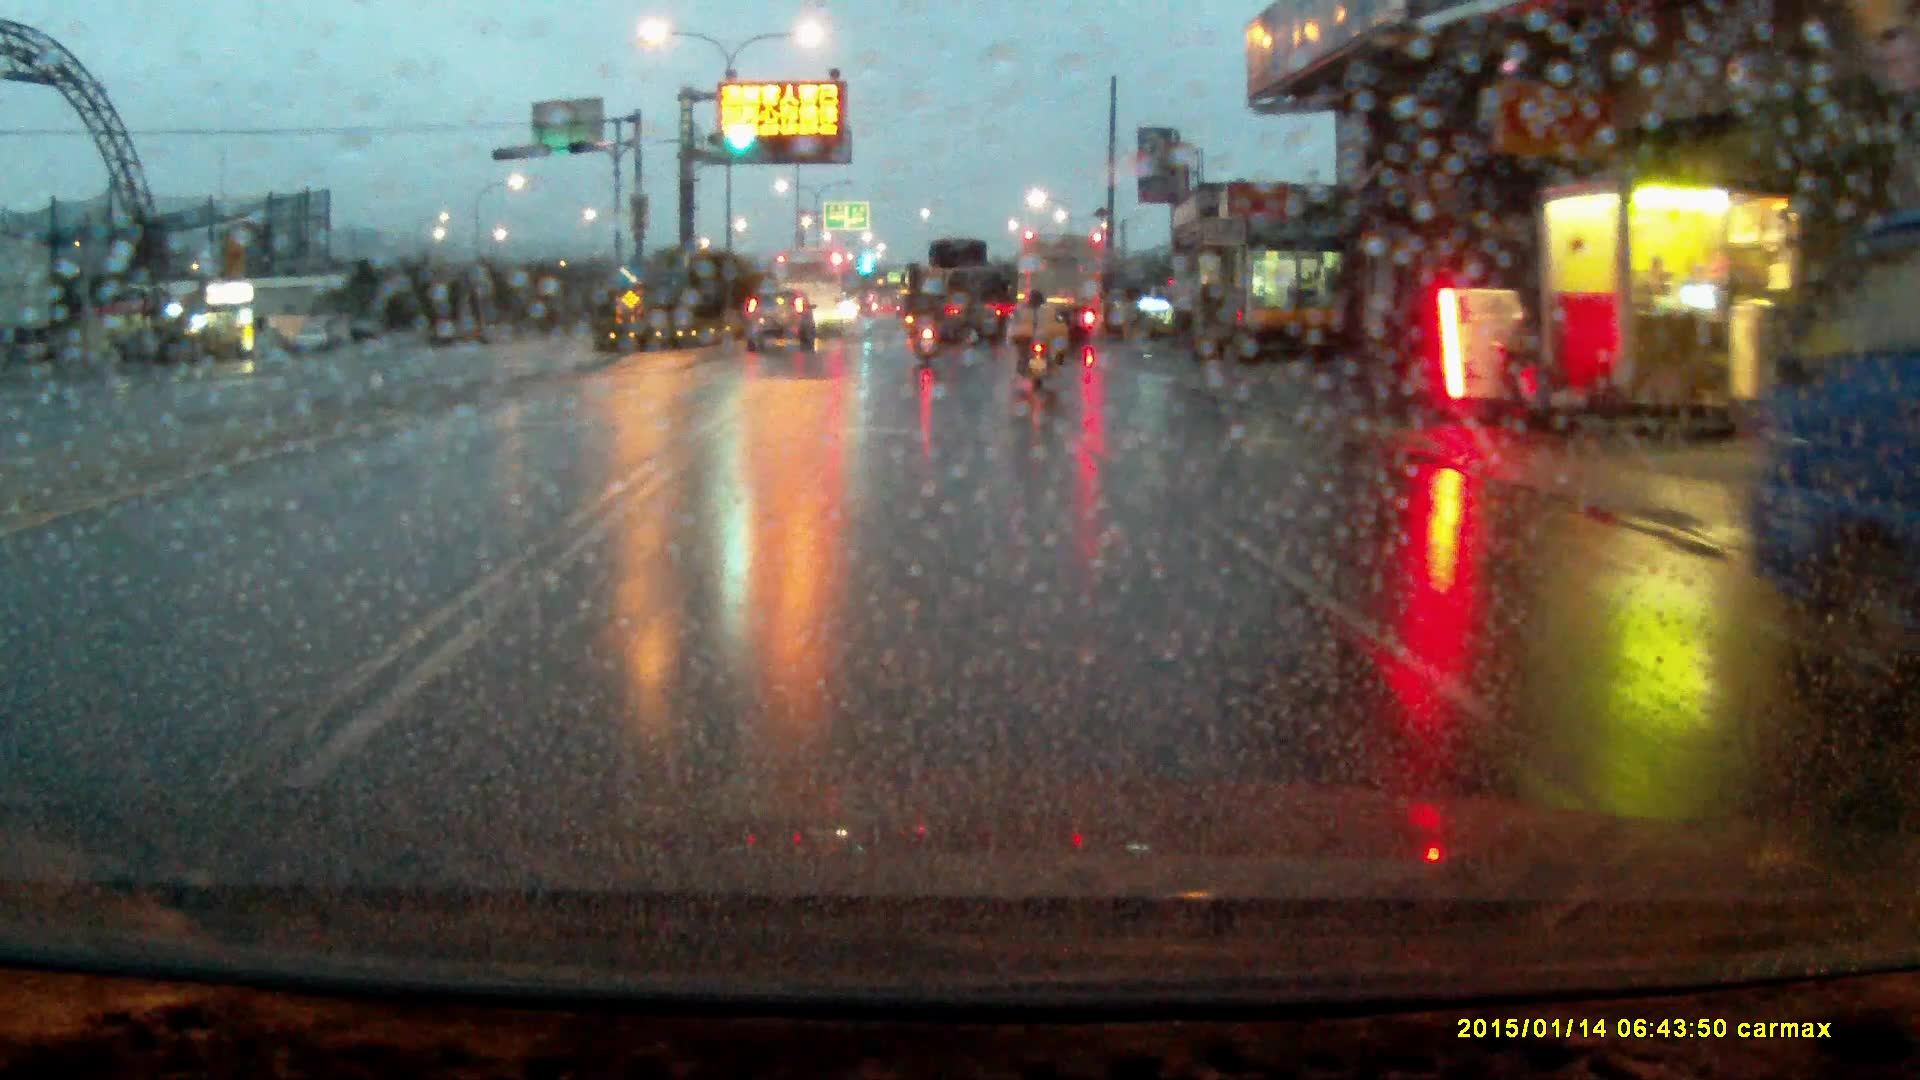rider: (1018, 287, 1059, 395), (912, 283, 942, 364)
vehicle: (916, 240, 1019, 347), (1021, 235, 1105, 349), (774, 248, 848, 333), (746, 282, 815, 346)
